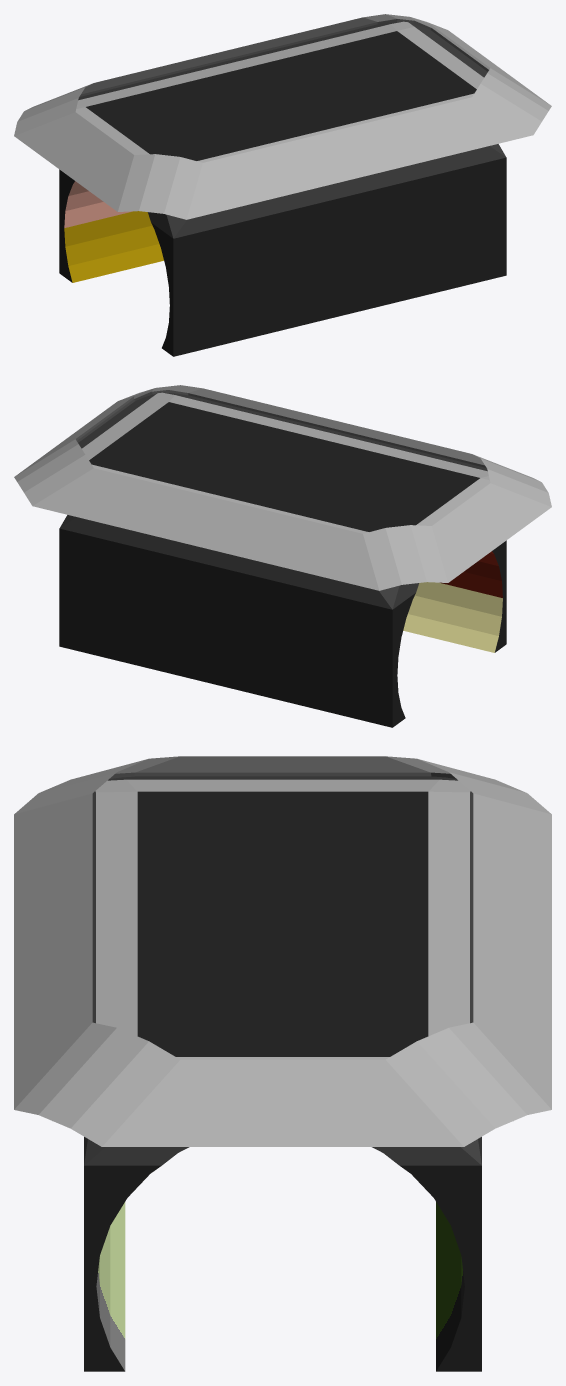
File: HudWatch.fbx
3 views of the same model, one above another, from view 1: azimuth 30°, elevation 25°; view 2: azimuth 150°, elevation 25°; view 3: azimuth 270°, elevation 25° (orthographic). The views are drawn at different scales.
Visible parts, largest first — view 1: Hud Watch; view 2: Hud Watch; view 3: Hud Watch.
Boxes of the visible parts, x1,y1,x2,y2 form: Hud Watch: (14,14,551,356); Hud Watch: (14,385,551,727); Hud Watch: (14,756,551,1371).
Size of the model in its own units: 61.81 by 25.71 by 38.
Materials: 1 (1 with a texture image).
